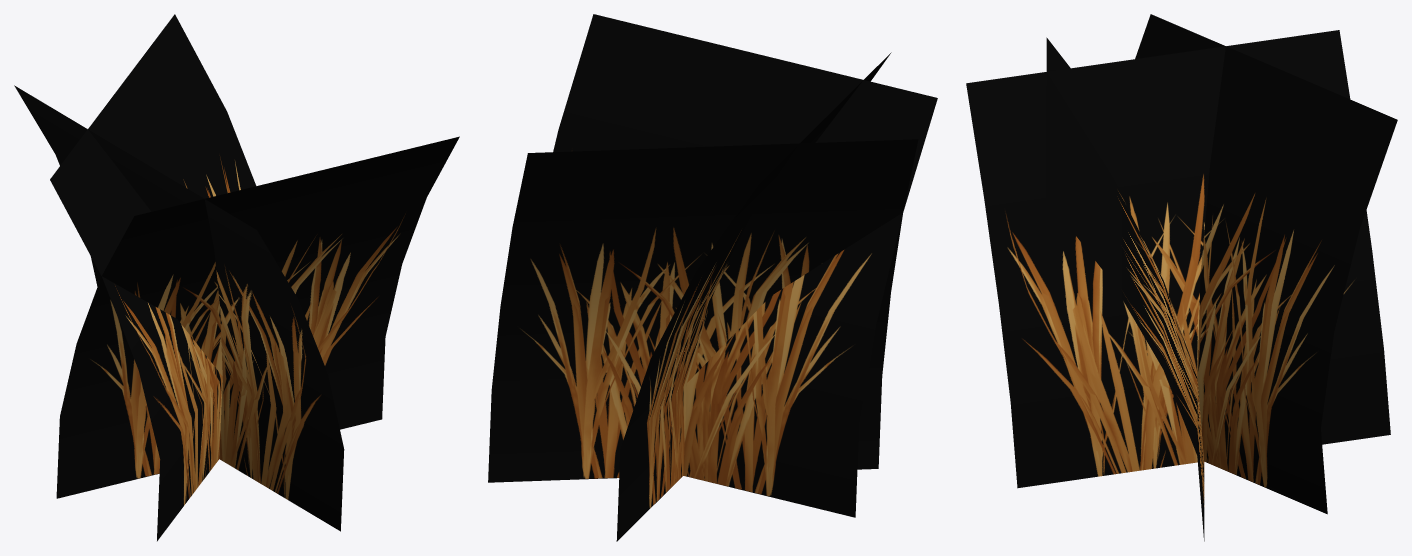
File: Pasto.fbx
3 renders of one model, left to right at view 1: azimuth 30°, elevation 25°; view 2: azimuth 150°, elevation 25°; view 3: azimuth 270°, elevation 25°, orthographic. The views are drawn at different scales.
Parts seen in each view (by area): view 1: pPlane4, pPlane5; view 2: pPlane4, pPlane5; view 3: pPlane4, pPlane5.
Part boxes in pixels (x1,y1,x2,y2): pPlane4: (14, 14, 459, 541); pPlane5: (20, 21, 457, 540); pPlane4: (488, 14, 937, 541); pPlane5: (488, 14, 932, 537); pPlane4: (966, 14, 1397, 541); pPlane5: (968, 16, 1390, 540).
Bounding box in the file's own units: 110 × 110 × 113.
